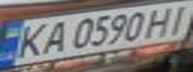0: (124, 8, 154, 42), (69, 15, 93, 51)
5: (90, 11, 115, 47)
9: (106, 11, 133, 45)
A: (36, 18, 72, 55)
H: (139, 3, 181, 38)
I: (160, 1, 193, 35)
K: (9, 20, 54, 60)
